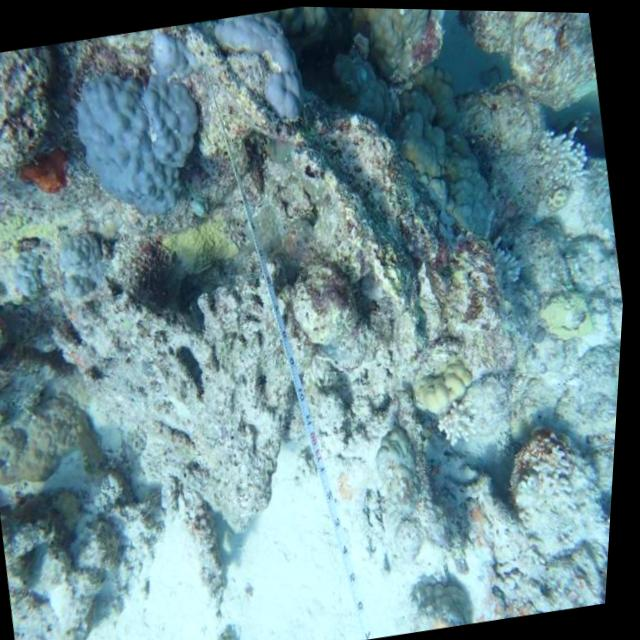Bleached Coral: (409, 342, 487, 430), (537, 272, 605, 358)
